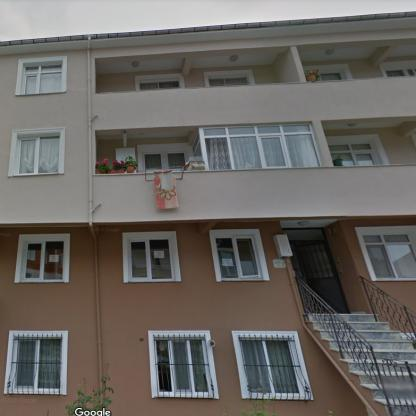door: (292, 245, 348, 311)
window: (201, 124, 320, 169), (240, 338, 300, 394), (156, 339, 209, 392), (14, 339, 62, 390), (362, 234, 415, 278), (214, 237, 262, 279), (129, 238, 173, 279), (24, 240, 64, 278), (18, 137, 60, 173), (328, 142, 377, 166), (23, 64, 62, 93), (144, 152, 184, 169), (140, 79, 180, 90), (209, 75, 248, 86), (287, 230, 325, 240), (386, 68, 415, 77), (319, 73, 341, 80)
